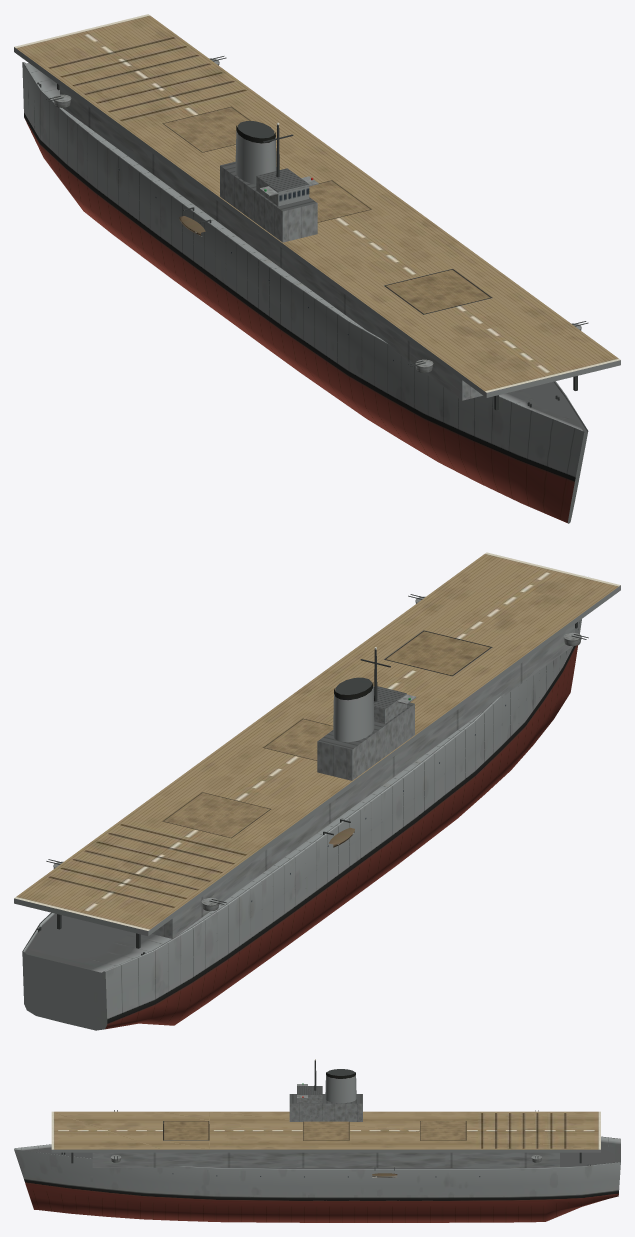
Rendered from carrier.glb.
3 renders of one model, top to bottom at view 1: azimuth 30°, elevation 25°; view 2: azimuth 150°, elevation 25°; view 3: azimuth 270°, elevation 25°, orthographic. The views are drawn at different scales.
Visible parts, largest first — view 1: hull, ascenseur; view 2: hull, ascenseur; view 3: hull, ascenseur.
Part boxes in pixels (<box>): hull: <box>14,14,620,523</box>; ascenseur: <box>384,269,491,314</box>; hull: <box>14,552,620,1030</box>; ascenseur: <box>384,630,491,676</box>; hull: <box>14,1059,620,1222</box>; ascenseur: <box>163,1121,208,1140</box>.
Bounding box in the file's own units: 35.9 × 45.42 × 183.
7 materials, 6 textured.
